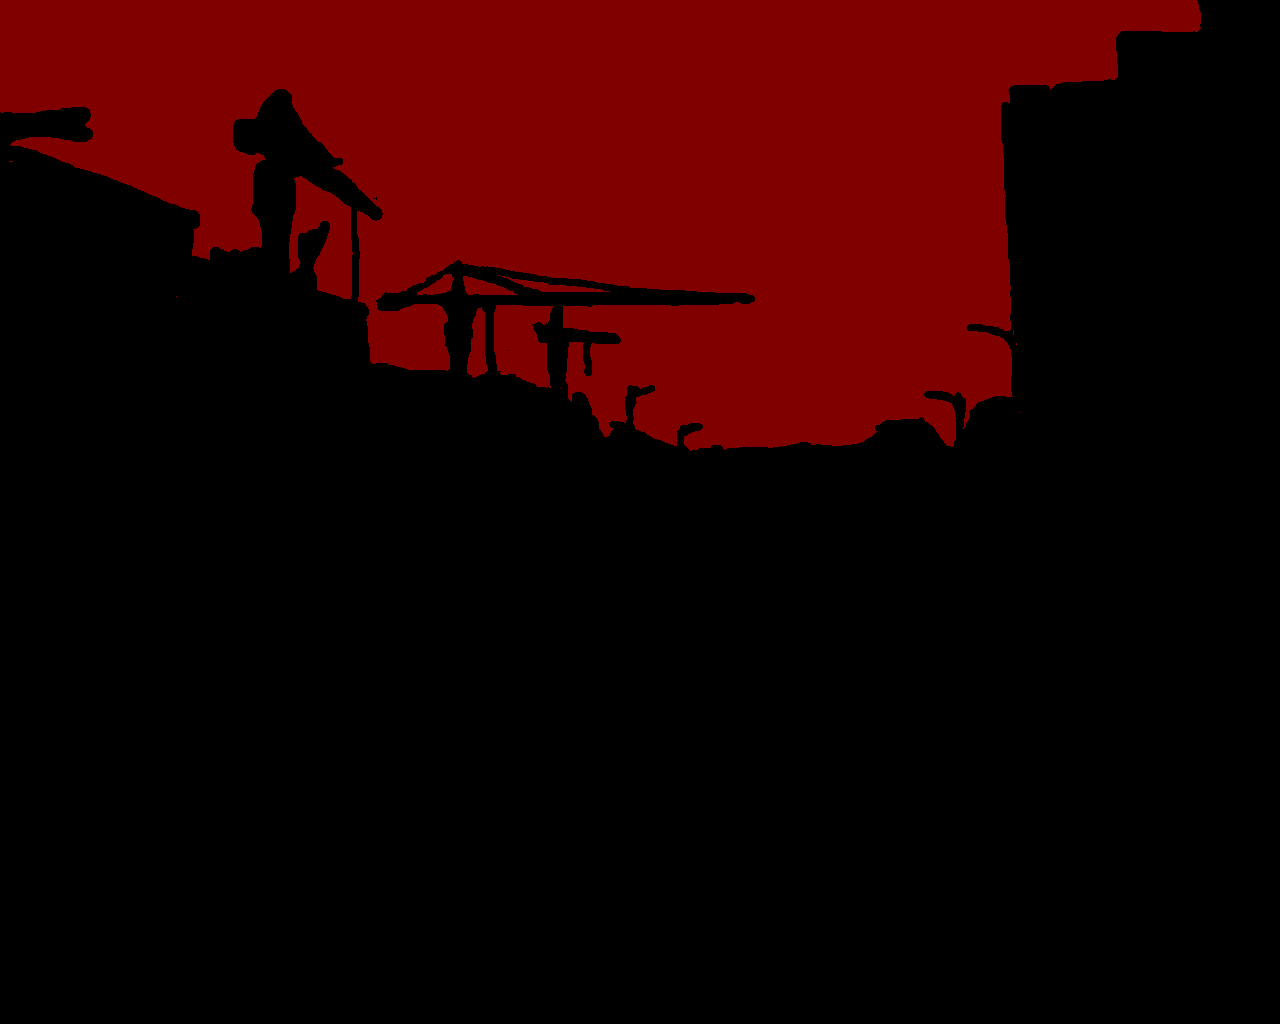Sky: (1, 1, 1200, 451)
